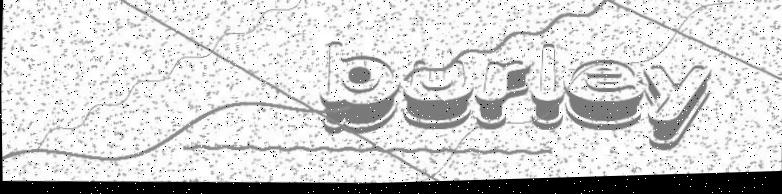b: (317, 39, 402, 140)
e: (563, 58, 645, 137)
l: (529, 44, 568, 135)
r: (472, 60, 532, 136)
u: (400, 60, 473, 134)
y: (640, 66, 712, 157)
